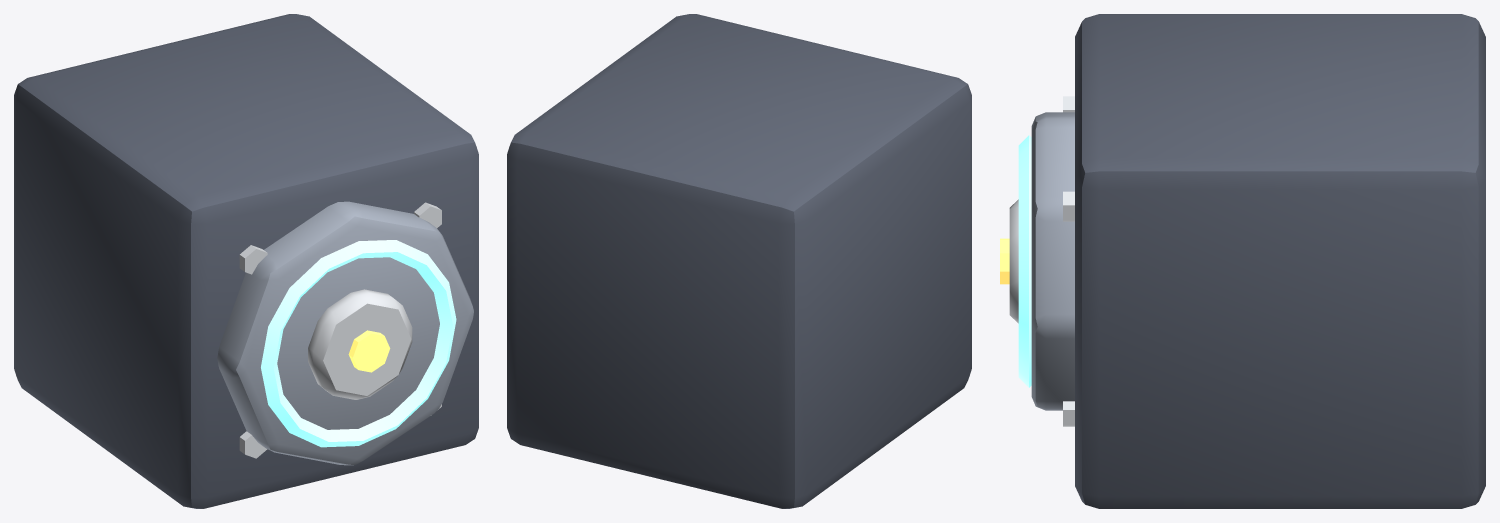
File: frame_corner.glb
3 renders of one model, left to right at view 1: azimuth 30°, elevation 25°; view 2: azimuth 150°, elevation 25°; view 3: azimuth 270°, elevation 25°, orthographic. The views are drawn at different scales.
Visible parts, largest first — view 1: frame_corner; view 2: frame_corner; view 3: frame_corner.
Part boxes in pixels (left/top/right/bottom): frame_corner: left=14, top=14, right=478, bottom=508; frame_corner: left=507, top=14, right=971, bottom=508; frame_corner: left=1000, top=14, right=1485, bottom=508.
Bounding box in the file's own units: 0.8 × 0.8 × 1.
